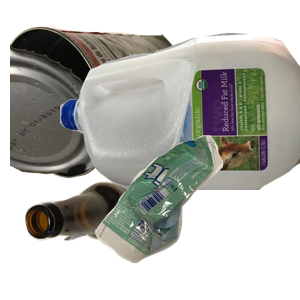glass: (23, 179, 183, 300)
metal: (10, 23, 193, 194)
plastic: (60, 30, 300, 210)
trash: (92, 133, 300, 300)
